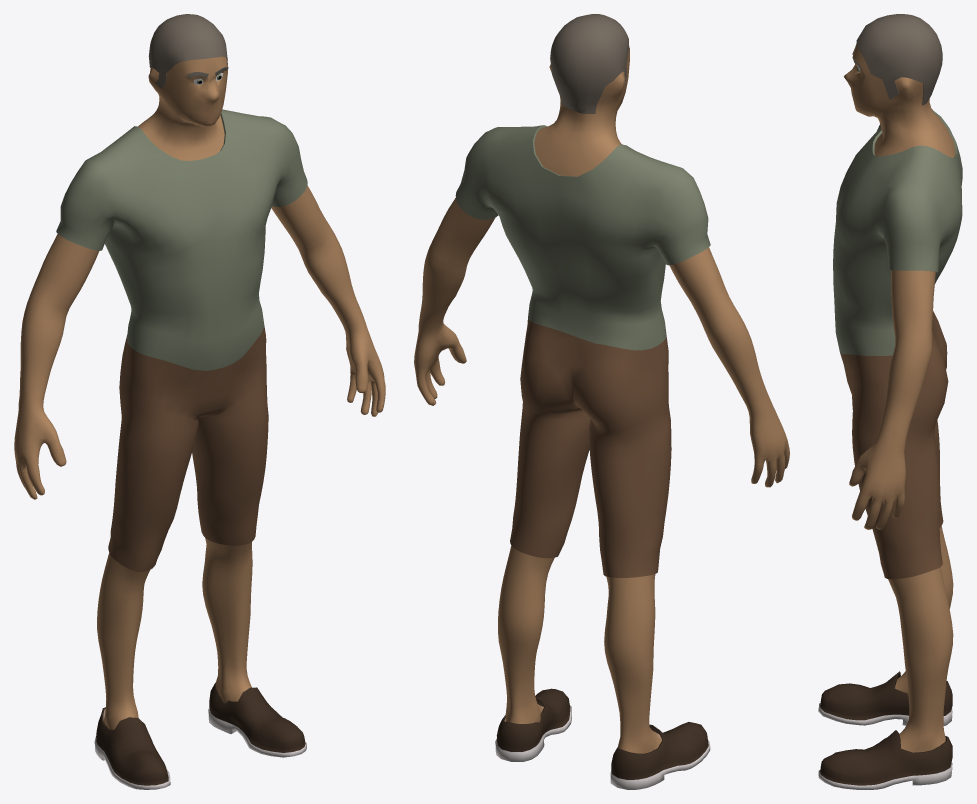
The model's file is humanboy_final_estatico.fbx.
The picture shows the model from 3 angles, left to right: view 1: azimuth 30°, elevation 25°; view 2: azimuth 150°, elevation 25°; view 3: azimuth 270°, elevation 25°; orthographic projection.
Parts seen in each view (by area): view 1: pSphere10; view 2: pSphere10; view 3: pSphere10.
Part boxes in pixels (<box>): pSphere10: <box>14,14,385,789</box>; pSphere10: <box>414,14,789,789</box>; pSphere10: <box>818,14,962,789</box>.
Size of the model in its own units: 124 by 238 by 42.83.
